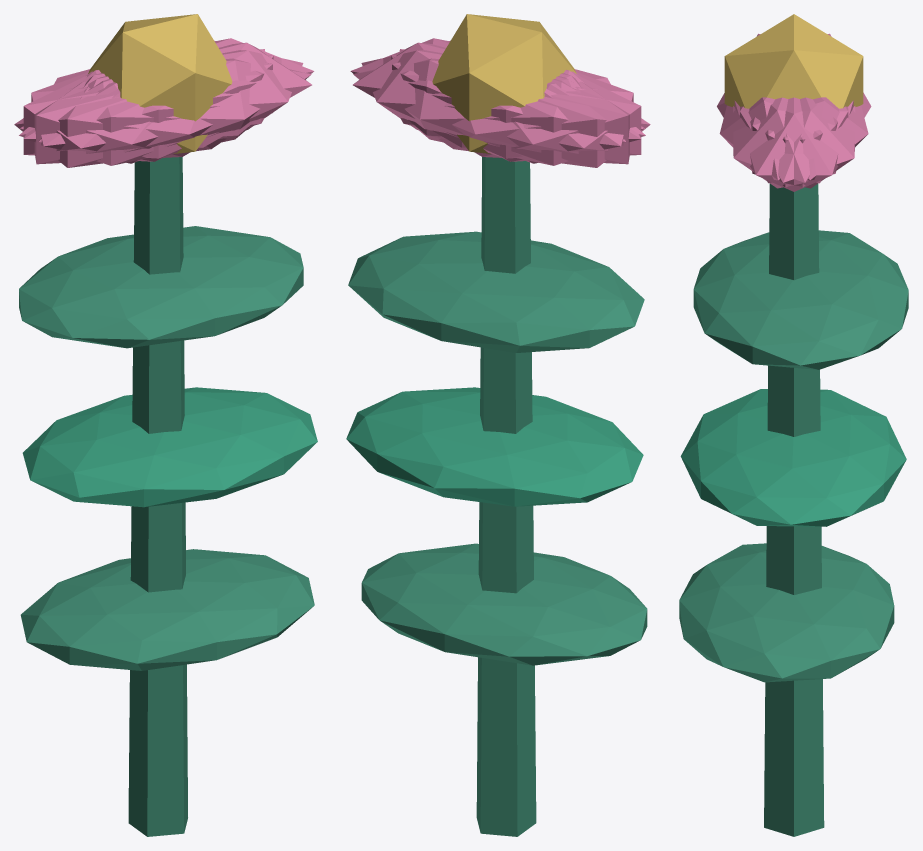
Rendered from ficus-variegata.glb.
The picture shows the model from 3 angles, left to right: view 1: azimuth 30°, elevation 25°; view 2: azimuth 150°, elevation 25°; view 3: azimuth 270°, elevation 25°; orthographic projection.
Visible parts, largest first — view 1: stem, leaf0, leaf1, leaf2, center, petal1, petal6, petal2, petal5, petal7, petal0, petal4 (+2 smaller); view 2: leaf2, stem, leaf1, leaf0, center, petal8, petal3, petal7, petal4, petal2, petal0, petal5 (+2 smaller); view 3: leaf1, leaf2, leaf0, stem, center, petal0, petal5, petal4, petal1, petal8.
Part boxes in pixels (x1,y1,x2,y2): stem: (128, 157, 187, 836); leaf0: (20, 549, 314, 670); leaf1: (22, 387, 317, 507); leaf2: (19, 226, 303, 348); center: (88, 14, 232, 153); petal1: (19, 58, 311, 165); petal6: (14, 71, 226, 167); petal2: (34, 49, 265, 164); petal5: (39, 50, 303, 158); petal7: (23, 55, 273, 161); petal0: (88, 42, 311, 148); petal4: (20, 38, 314, 139); leaf2: (348, 231, 644, 352); stem: (476, 157, 536, 836); leaf1: (346, 387, 643, 506); leaf0: (361, 543, 647, 665); center: (432, 14, 576, 153); petal8: (353, 58, 645, 165); petal3: (438, 71, 650, 167); petal7: (399, 49, 629, 164); petal4: (361, 50, 625, 158); petal2: (391, 55, 641, 161); petal0: (353, 42, 576, 148); petal5: (350, 38, 644, 139); leaf1: (680, 389, 906, 526); leaf2: (693, 230, 908, 369); leaf0: (679, 543, 894, 682); stem: (764, 183, 824, 836); center: (724, 14, 863, 108); petal0: (734, 97, 853, 191); petal5: (733, 97, 848, 188); petal4: (740, 97, 855, 188); petal1: (719, 97, 837, 180); petal8: (750, 97, 868, 180).
Size of the model in its own units: 0.1452 by 0.386 by 0.1014.
